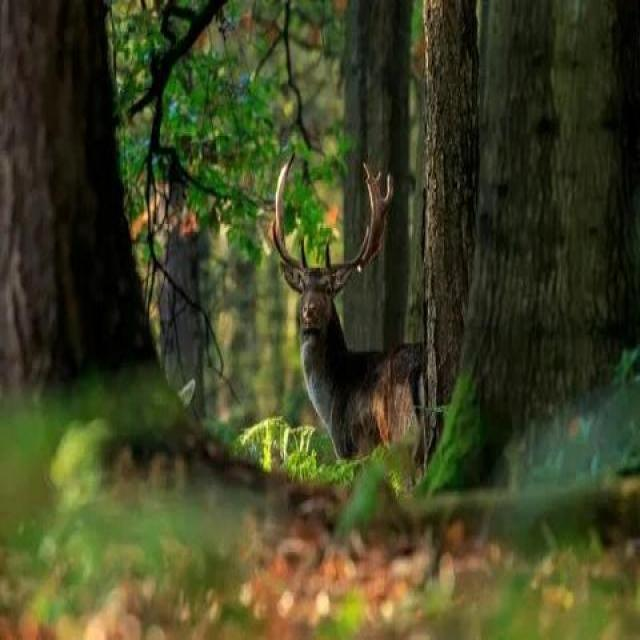deer: (246, 181, 488, 519)
